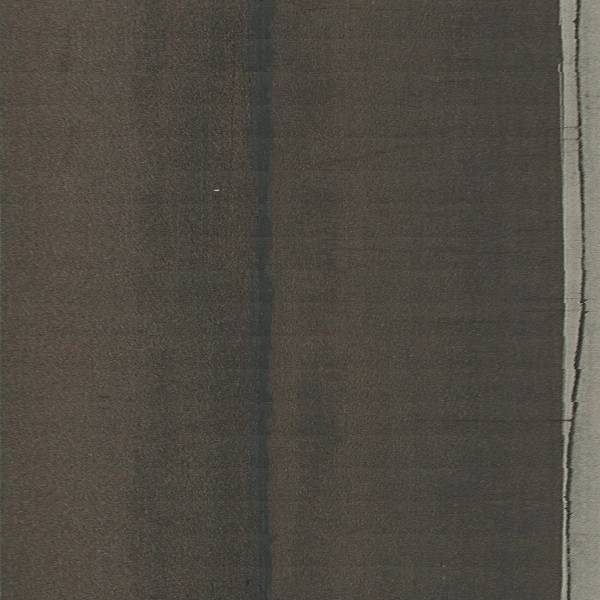road_damage: (237, 11, 294, 595)
